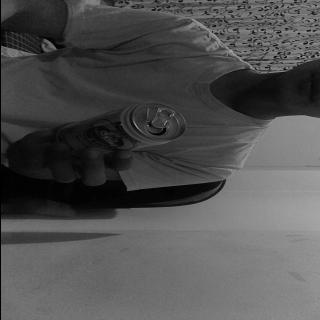alumunium_can: (53, 104, 189, 160)
